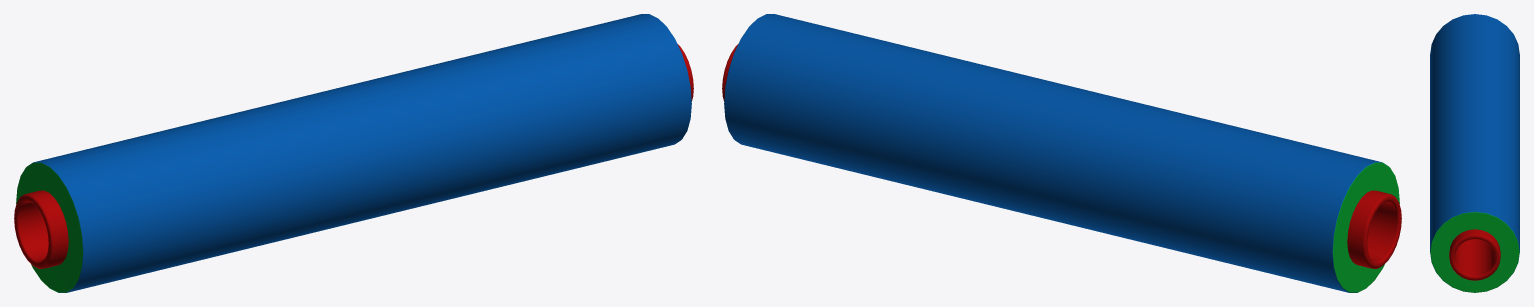
File: SM_roll_2.fbx
3 views of the same model, side by side, from view 1: azimuth 30°, elevation 25°; view 2: azimuth 150°, elevation 25°; view 3: azimuth 270°, elevation 25° (orthographic). The views are drawn at different scales.
Visible parts, largest first — view 1: SM_roll_2; view 2: SM_roll_2; view 3: SM_roll_2.
Boxes of the visible parts, x1,y1,x2,y2 form: SM_roll_2: (14, 14, 693, 292); SM_roll_2: (722, 14, 1401, 292); SM_roll_2: (1430, 14, 1519, 292).
Bounding box in the file's own units: 0.9136 × 0.1657 × 0.1657.
